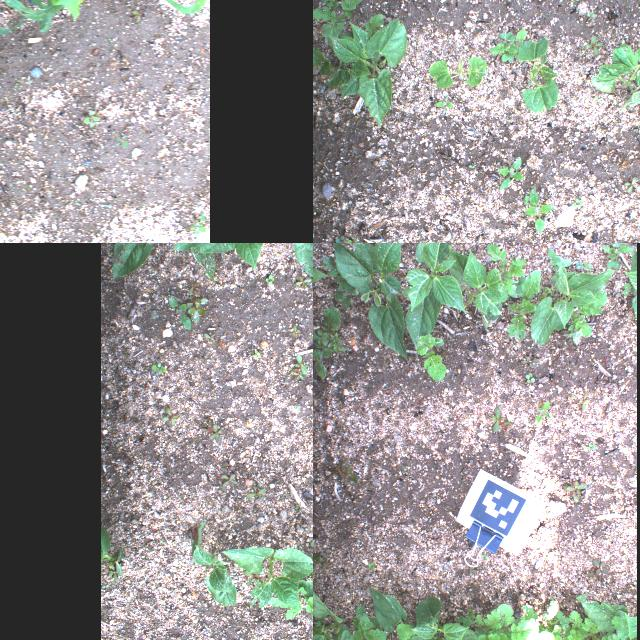crop: (313, 0, 406, 127), (327, 243, 411, 362), (531, 246, 615, 344), (402, 243, 465, 349), (221, 546, 313, 611), (446, 248, 509, 334), (192, 521, 236, 607), (369, 586, 439, 640), (587, 40, 639, 110), (517, 34, 561, 114), (411, 596, 480, 640), (577, 592, 637, 638), (172, 243, 274, 270), (313, 589, 360, 640), (113, 243, 177, 278), (429, 54, 489, 90), (488, 28, 528, 66), (176, 243, 215, 281), (271, 243, 313, 278), (101, 526, 123, 576), (620, 250, 636, 316), (313, 256, 323, 294)
weed: (545, 597, 637, 640), (470, 600, 553, 640), (313, 306, 348, 381), (506, 270, 540, 344), (569, 288, 607, 344), (488, 244, 526, 298), (322, 255, 358, 307), (523, 186, 557, 238), (416, 336, 446, 384), (349, 605, 385, 640), (268, 588, 306, 620), (494, 156, 524, 192), (168, 295, 192, 331), (313, 600, 332, 640), (560, 480, 588, 506), (430, 91, 454, 121), (579, 34, 605, 61), (601, 243, 628, 266), (619, 171, 639, 201), (533, 398, 553, 427), (586, 556, 610, 580), (339, 461, 361, 487), (489, 405, 509, 433), (188, 210, 208, 236), (188, 298, 206, 322), (313, 549, 333, 570), (82, 110, 100, 132), (330, 232, 360, 243), (208, 423, 224, 443), (162, 406, 178, 426), (519, 352, 539, 368), (303, 597, 313, 627), (592, 92, 608, 110), (243, 570, 261, 586), (572, 194, 586, 214), (246, 486, 266, 500), (574, 394, 588, 414), (149, 362, 167, 376), (294, 276, 312, 290), (581, 10, 601, 22), (295, 356, 307, 374), (114, 136, 130, 148), (222, 474, 238, 486), (109, 562, 118, 582), (131, 9, 143, 23), (264, 273, 276, 287), (522, 373, 536, 385), (220, 461, 233, 473), (568, 0, 583, 10), (184, 530, 193, 546), (365, 559, 377, 571), (202, 332, 215, 343), (292, 325, 300, 339), (465, 162, 477, 170), (253, 349, 261, 359), (218, 480, 226, 490), (293, 372, 303, 380), (588, 447, 600, 453), (14, 82, 18, 88), (108, 38, 114, 42), (102, 586, 108, 588)
